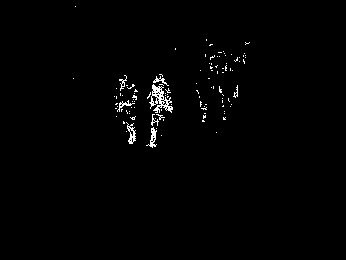person: (146, 73, 174, 149), (115, 74, 139, 145), (195, 72, 215, 123), (219, 80, 238, 122)
